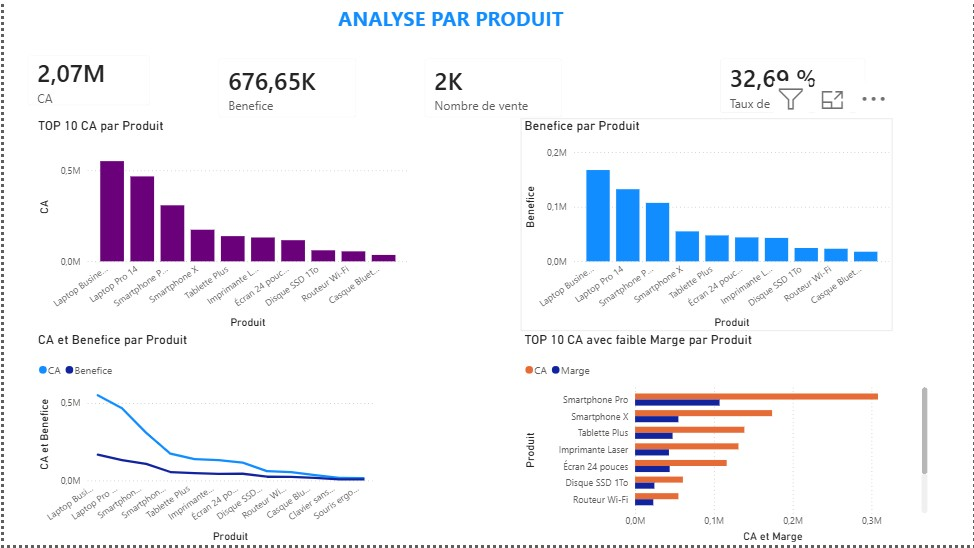

The page's visual inventory and layout, read from the dashboard file:
{"tool":"powerbi","page":{"name":"Analyse par produit","canvas":[1280,720],"ordinal":1},"visuals":[{"type":"cardVisual","fields":{"Data":["Fact_Ventes.CA"]},"box":[14,56,196,100],"z":0},{"type":"cardVisual","fields":{"Data":["Fact_Ventes.Benefice"]},"box":[266,60,216,112],"z":1000},{"type":"cardVisual","fields":{"Data":["Fact_Ventes.Nombre de vente"]},"box":[538,60,216,112],"z":2000},{"type":"cardVisual","fields":{"Data":["Fact_Ventes.Taux de marge"]},"box":[928,60,226,106],"z":3000},{"type":"columnChart","fields":{"Y":["Fact_Ventes.Benefice"],"Category":["Dim_Produit.Produit"]},"box":[682.5,156.2,492,282],"z":4000},{"type":"columnChart","title":"TOP 10 CA par Produit","fields":{"Category":["Dim_Produit.Produit"],"Y":["Fact_Ventes.CA"]},"box":[40,156,498,282],"z":5000},{"type":"lineChart","fields":{"Y":["Fact_Ventes.CA","Fact_Ventes.Benefice"],"Category":["Dim_Produit.Produit"]},"box":[40,438,452,282],"z":6000},{"type":"clusteredBarChart","title":"TOP 10 CA avec faible Marge par Produit","fields":{"Category":["Dim_Produit.Produit"],"Y":["Fact_Ventes.CA","Fact_Ventes.Marge"]},"box":[682,438,542,282],"z":7000},{"type":"textbox","box":[436,0,546,72],"z":8000}]}

Visuals, with their boxes in screenshot pixels (x1, y1, x2, y2), scaled from the page's 1280x720 canvas onto the 974x548 screenshot:
cardVisual - Fact_Ventes.CA: l=11, t=43, r=160, b=119
cardVisual - Fact_Ventes.Benefice: l=202, t=46, r=367, b=131
cardVisual - Fact_Ventes.Nombre de vente: l=409, t=46, r=574, b=131
cardVisual - Fact_Ventes.Taux de marge: l=706, t=46, r=878, b=126
columnChart - Fact_Ventes.Benefice x Dim_Produit.Produit: l=519, t=119, r=894, b=334
"TOP 10 CA par Produit" columnChart: l=30, t=119, r=409, b=333
lineChart - Fact_Ventes.CA x Fact_Ventes.Benefice: l=30, t=333, r=374, b=547
"TOP 10 CA avec faible Marge par Produit" clusteredBarChart: l=519, t=333, r=931, b=547
textbox: l=332, t=0, r=747, b=55
